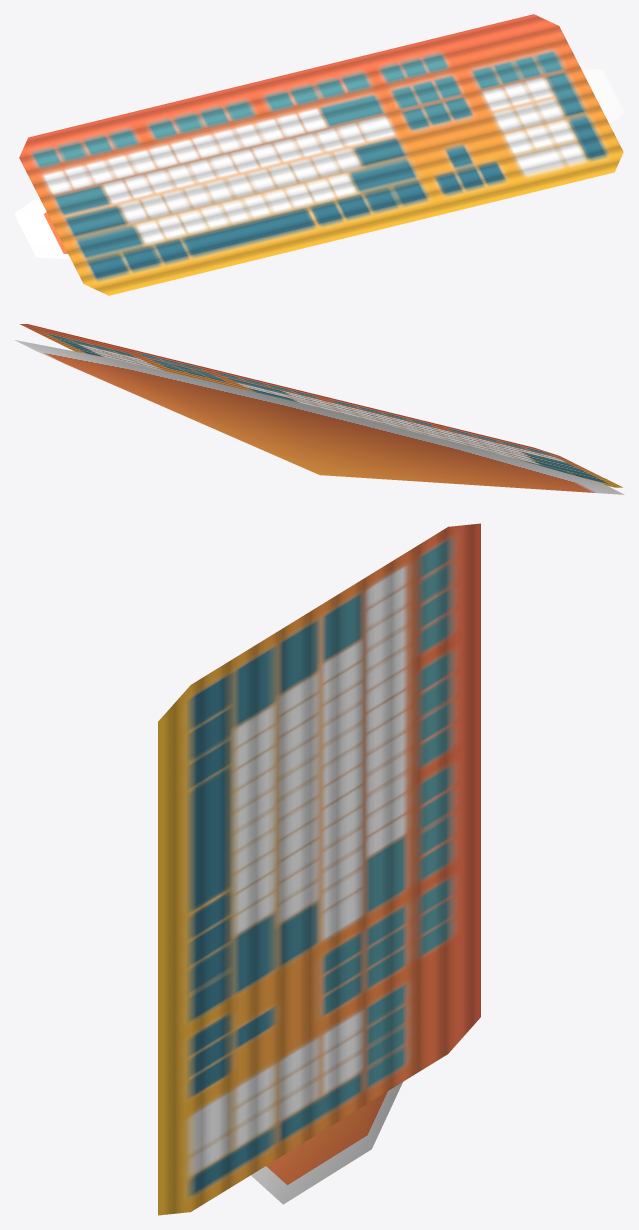
Rendered from Terminal_008_monitor_002.fbx.
The picture shows the model from 3 angles, top to bottom: view 1: azimuth 30°, elevation 25°; view 2: azimuth 150°, elevation 25°; view 3: azimuth 270°, elevation 25°; orthographic projection. The views are drawn at different scales.
Visible parts, largest first — view 1: Terminal_008_monitor_002; view 2: Terminal_008_monitor_002; view 3: Terminal_008_monitor_002.
Boxes of the visible parts, box(x1,y1,x2,y2) form: Terminal_008_monitor_002: box(14, 14, 624, 295); Terminal_008_monitor_002: box(15, 324, 624, 494); Terminal_008_monitor_002: box(158, 523, 480, 1215).
Bounding box in the file's own units: 70.55 × 16.76 × 13.45.
